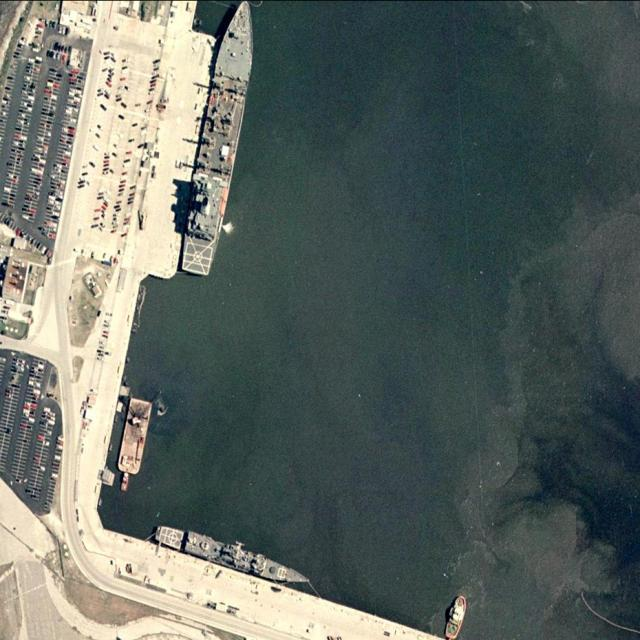Commander: (170, 1, 266, 278)
Frigate: (153, 525, 312, 588)
Hovercraft: (442, 593, 469, 639)
